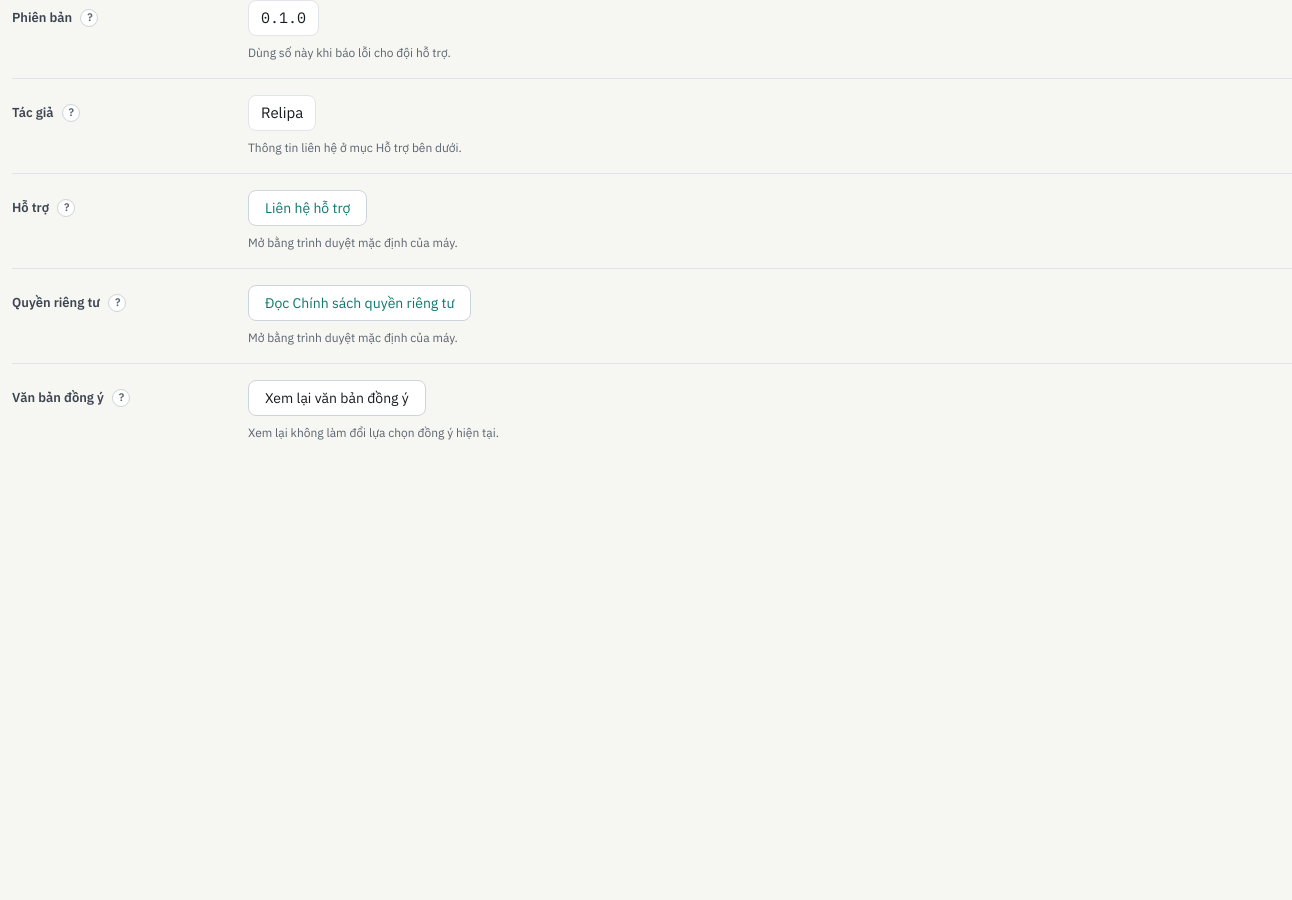
Test case: SettingsAbout › shows the consent review toggle and full consent text even when Consent was declined
The image size is (1292, 900).
Click the button "Xem lại văn bản đồng ý" at (337, 398), box [248, 380, 426, 416]
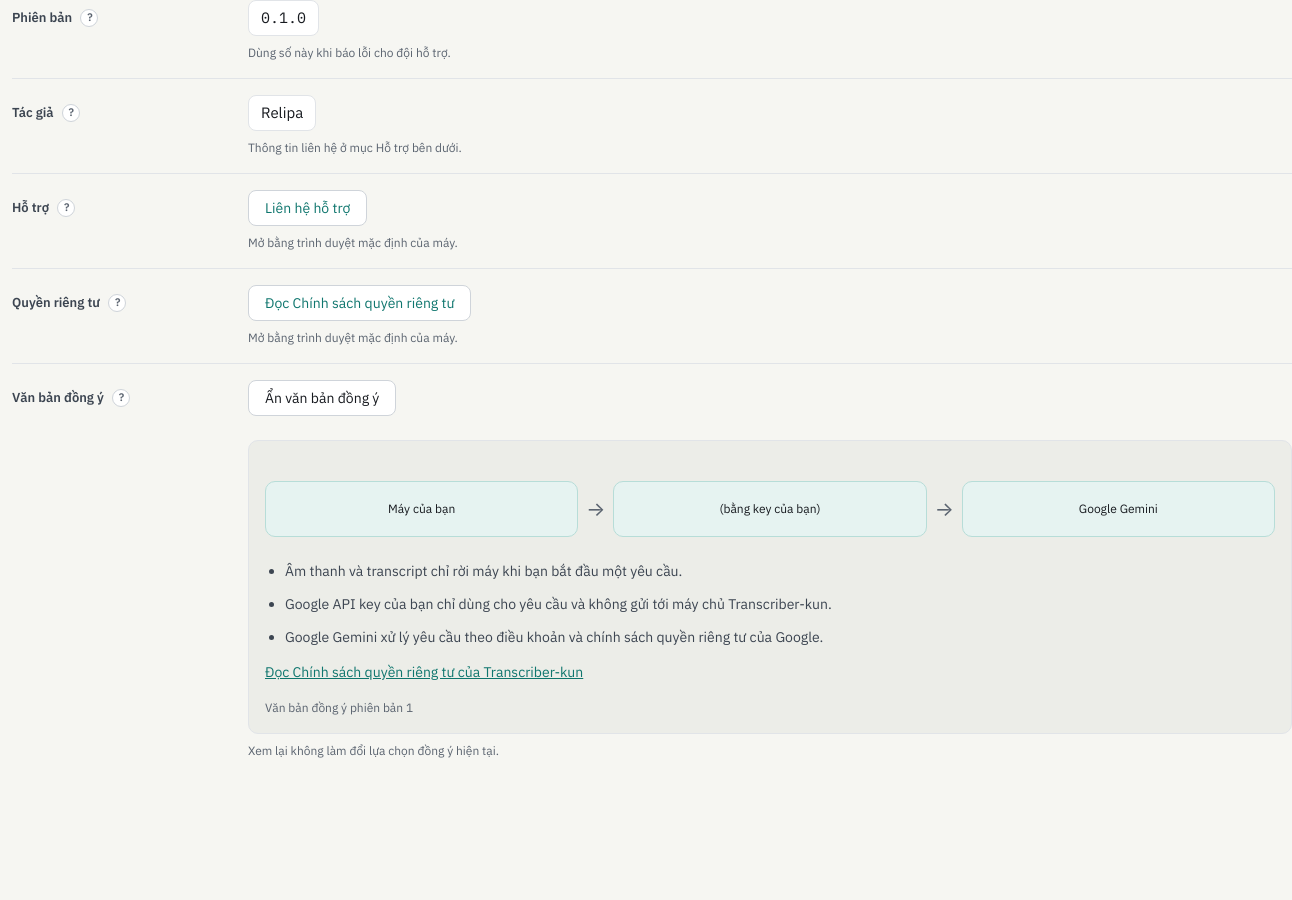
Now the text "Văn bản đồng ý phiên bản 1" is shown, box [265, 700, 413, 715]
Now the button "Ẩn văn bản đồng ý" is shown, box [248, 380, 396, 416]
